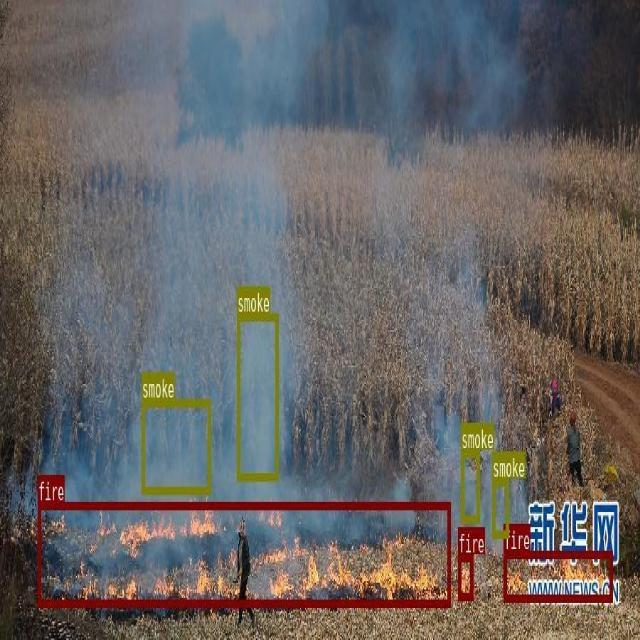fire: (38, 502, 450, 606), (503, 550, 612, 600), (458, 553, 473, 598)
smoke: (237, 313, 278, 479), (141, 398, 210, 493), (461, 449, 479, 521), (492, 478, 508, 536)
